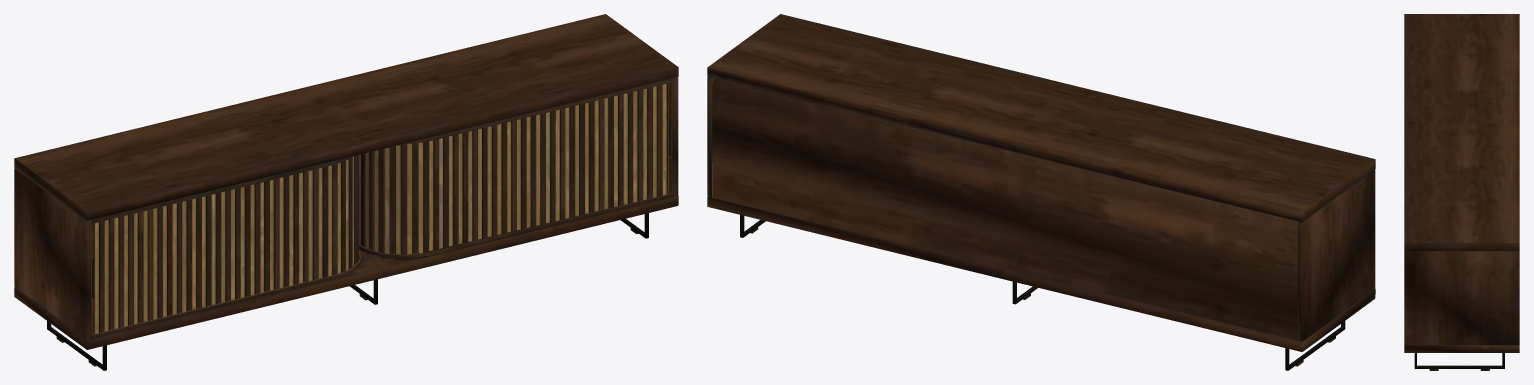
File: cabinet.glb
3 renders of one model, left to right at view 1: azimuth 30°, elevation 25°; view 2: azimuth 150°, elevation 25°; view 3: azimuth 270°, elevation 25°, orthographic. The views are drawn at different scales.
Parts seen in each view (by area): view 1: modern_wooden_cabinet_body, modern_wooden_cabinet_door_r, modern_wooden_cabinet_door_l; view 2: modern_wooden_cabinet_body; view 3: modern_wooden_cabinet_body.
Part boxes in pixels (left/top/right/bottom): modern_wooden_cabinet_body: left=14, top=14, right=678, bottom=370; modern_wooden_cabinet_door_r: left=359, top=82, right=672, bottom=256; modern_wooden_cabinet_door_l: left=91, top=155, right=358, bottom=334; modern_wooden_cabinet_body: left=707, top=14, right=1375, bottom=370; modern_wooden_cabinet_body: left=1404, top=14, right=1519, bottom=370.
Size of the model in its own units: 2.44 by 0.6801 by 0.52.
1 material, 1 textured.
